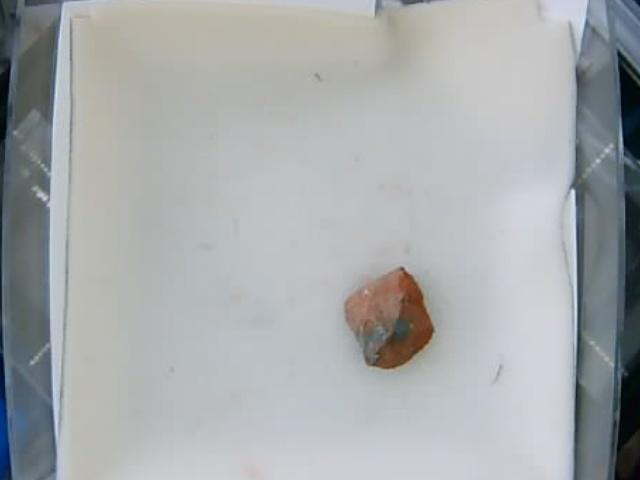Brisk: (345, 265, 436, 369)
